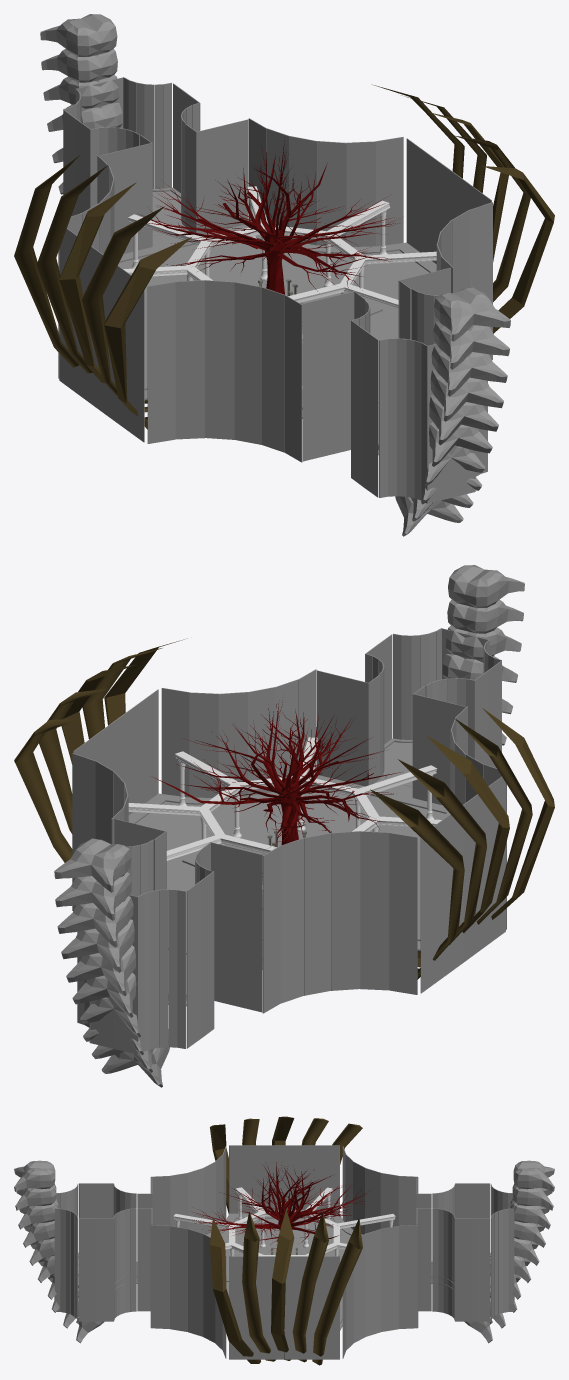
Rendered from stage04.FBX.
3 renders of one model, top to bottom at view 1: azimuth 30°, elevation 25°; view 2: azimuth 150°, elevation 25°; view 3: azimuth 270°, elevation 25°, orthographic. The views are drawn at different scales.
Parts seen in each view (by area): view 1: Wall, Skeleton_lowPoly004, Object076, Object027, Object026, Object074, wall008, wall009, wall007, wall010, Object002, Object162 (+1 smaller); view 2: Wall, Skeleton_lowPoly004, Object074, Object027, Object026, Object076, wall007, wall010, wall009, wall008, Object002, Object066 (+2 smaller); view 3: Wall, Skeleton_lowPoly004, Object074, Object076, Object026, wall008, wall009, wall007, wall010, Object027, Object002, Object165 (+1 smaller).
Boxes of the visible parts, x1=… form: Wall: x1=58, y1=77, x2=492, y2=503; Skeleton_lowPoly004: x1=14, y1=84, x2=554, y2=429; Object076: x1=395, y1=287, x2=510, y2=536; Object027: x1=118, y1=187, x2=436, y2=455; Object026: x1=139, y1=140, x2=397, y2=294; Object074: x1=40, y1=14, x2=122, y2=194; wall008: x1=406, y1=138, x2=449, y2=263; wall009: x1=101, y1=254, x2=144, y2=442; wall007: x1=59, y1=228, x2=101, y2=411; wall010: x1=449, y1=169, x2=491, y2=221; Object002: x1=217, y1=270, x2=382, y2=358; Object162: x1=355, y1=251, x2=436, y2=264; Wall: x1=72, y1=628, x2=506, y2=1054; Skeleton_lowPoly004: x1=14, y1=638, x2=554, y2=979; Object074: x1=54, y1=838, x2=169, y2=1087; Object027: x1=128, y1=738, x2=449, y2=1006; Object026: x1=153, y1=700, x2=400, y2=846; Object076: x1=442, y1=565, x2=524, y2=745; wall007: x1=420, y1=805, x2=463, y2=993; wall010: x1=116, y1=689, x2=158, y2=814; wall009: x1=463, y1=776, x2=505, y2=962; wall008: x1=73, y1=720, x2=116, y2=772; Object002: x1=182, y1=821, x2=347, y2=909; Object066: x1=128, y1=803, x2=209, y2=815; Wall: x1=54, y1=1146, x2=514, y2=1358; Skeleton_lowPoly004: x1=210, y1=1116, x2=362, y2=1365; Object074: x1=464, y1=1160, x2=554, y2=1343; Object076: x1=14, y1=1160, x2=104, y2=1343; Object026: x1=192, y1=1162, x2=368, y2=1250; wall008: x1=284, y1=1256, x2=339, y2=1359; wall009: x1=229, y1=1145, x2=284, y2=1213; wall007: x1=284, y1=1145, x2=339, y2=1213; wall010: x1=229, y1=1256, x2=284, y2=1359; Object027: x1=78, y1=1213, x2=490, y2=1331; Object002: x1=226, y1=1241, x2=342, y2=1281; Object165: x1=333, y1=1214, x2=395, y2=1228.
Bounding box in the file's own units: 340 × 194 × 541.
